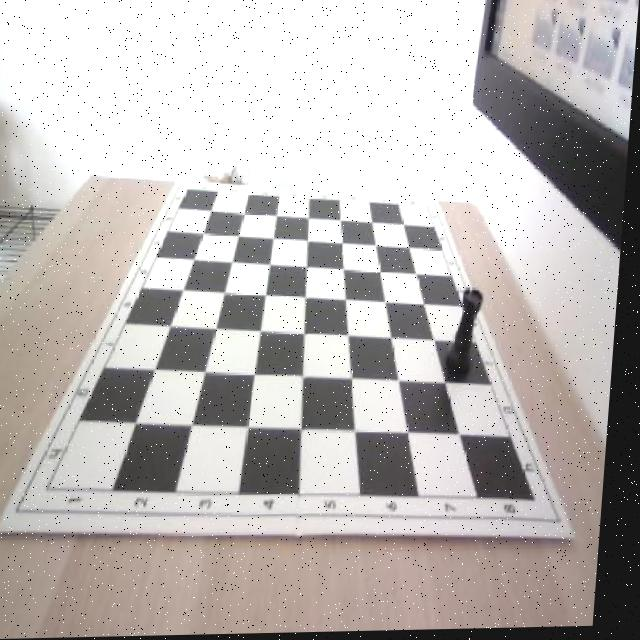black-queen: (446, 288, 489, 383)
